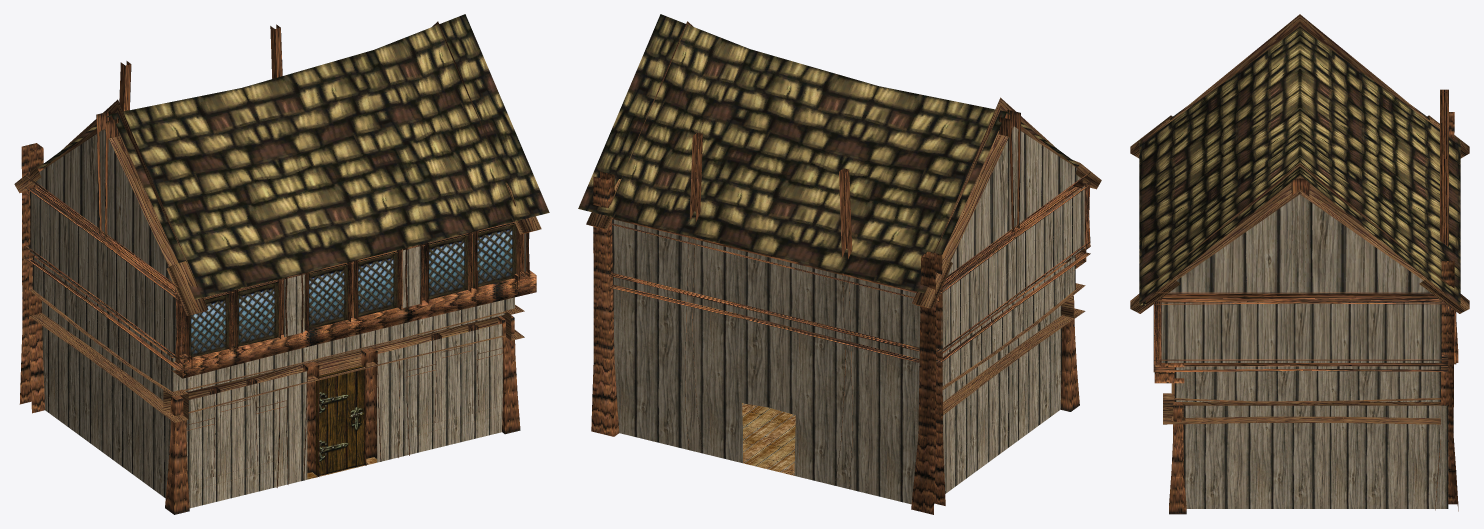
The model's file is LAKETOWN_GENHOUSE2_PS_GH2_MAINSHELL31__GX.fbx.
3 renders of one model, left to right at view 1: azimuth 30°, elevation 25°; view 2: azimuth 150°, elevation 25°; view 3: azimuth 270°, elevation 25°, orthographic. The views are drawn at different scales.
Parts seen in each view (by area): view 1: LAKETOWN_GENHOUSE2_PS_GH2_MAINSHELL31__GX; view 2: LAKETOWN_GENHOUSE2_PS_GH2_MAINSHELL31__GX; view 3: LAKETOWN_GENHOUSE2_PS_GH2_MAINSHELL31__GX.
Part boxes in pixels (bbox=[...]): LAKETOWN_GENHOUSE2_PS_GH2_MAINSHELL31__GX: bbox=[14, 14, 549, 514]; LAKETOWN_GENHOUSE2_PS_GH2_MAINSHELL31__GX: bbox=[578, 14, 1101, 514]; LAKETOWN_GENHOUSE2_PS_GH2_MAINSHELL31__GX: bbox=[1130, 14, 1469, 514].
Size of the model in its own units: 88624 by 84572 by 75067.
12 materials, 12 textured.
